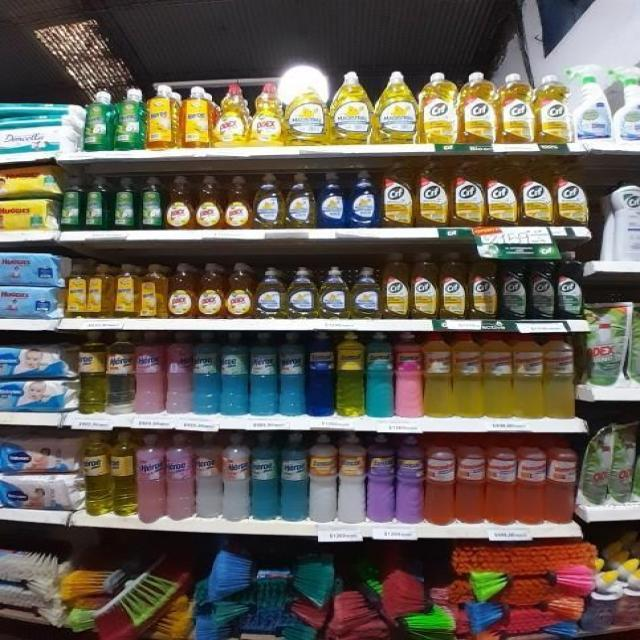cif_conc_bot_amarilla: (419, 72, 458, 144), (460, 71, 497, 145), (499, 72, 535, 144), (555, 157, 590, 228), (536, 74, 570, 144), (520, 156, 553, 227), (416, 158, 449, 228), (451, 158, 484, 227), (486, 157, 518, 227), (382, 160, 414, 228), (469, 249, 498, 320), (440, 251, 468, 319), (411, 251, 438, 319), (383, 252, 409, 319)
cif_conc_botella_verde: (500, 249, 528, 320), (557, 250, 584, 320), (529, 249, 555, 320)
cif_conc_sachet_verde: (629, 299, 640, 384)
esencial: (395, 332, 423, 418)
heroe: (280, 432, 308, 522), (222, 432, 250, 521), (136, 433, 164, 522), (135, 330, 164, 415), (250, 433, 278, 521), (306, 331, 334, 417), (250, 332, 278, 417), (166, 434, 193, 521), (195, 432, 221, 521), (106, 331, 134, 412), (193, 330, 219, 416), (165, 331, 191, 416), (279, 332, 305, 417)
magistral_con_amarillo: (330, 71, 372, 145), (375, 71, 417, 144), (285, 76, 327, 146), (253, 172, 284, 229), (285, 172, 315, 228), (350, 267, 381, 319), (255, 267, 286, 319), (319, 266, 349, 319), (287, 267, 317, 319)
magistral_con_azul: (348, 169, 378, 229), (317, 171, 346, 229)
odex: (214, 84, 248, 147), (250, 85, 284, 146), (165, 174, 194, 230), (226, 262, 254, 319), (168, 263, 196, 319), (197, 262, 224, 319), (225, 174, 252, 229), (196, 175, 223, 229)
